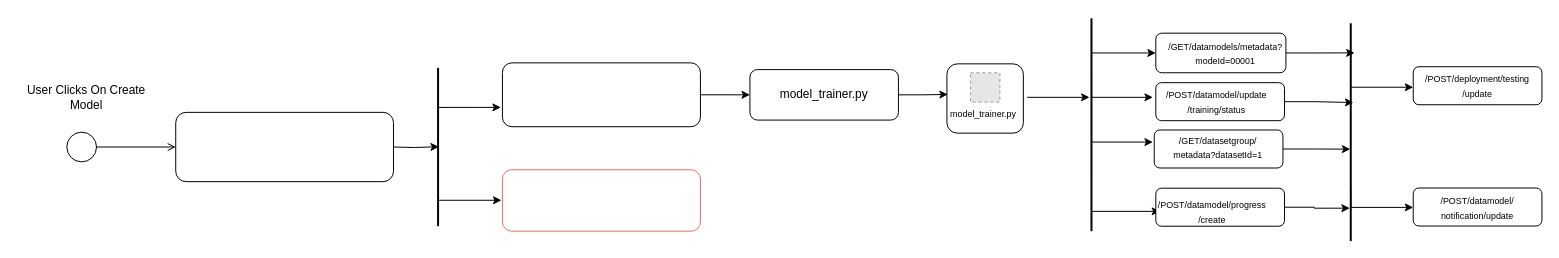
Some shapes in this 1559 by 258 pixel diagram are drawn without their labels. Grey dashed boxes stand in for pictures. The shapes that lost their labels are listed below. From the top down, each one's centre as x and y in pixels, then its label:
At (x=600, y=94): "/POST/cronmanager/execute/ datamodel/model_trainer".
At (x=284, y=146): "/POST/datamodel/create".
At (x=600, y=200): "/resql/datamodel/update-datasetgroup-metadata".
